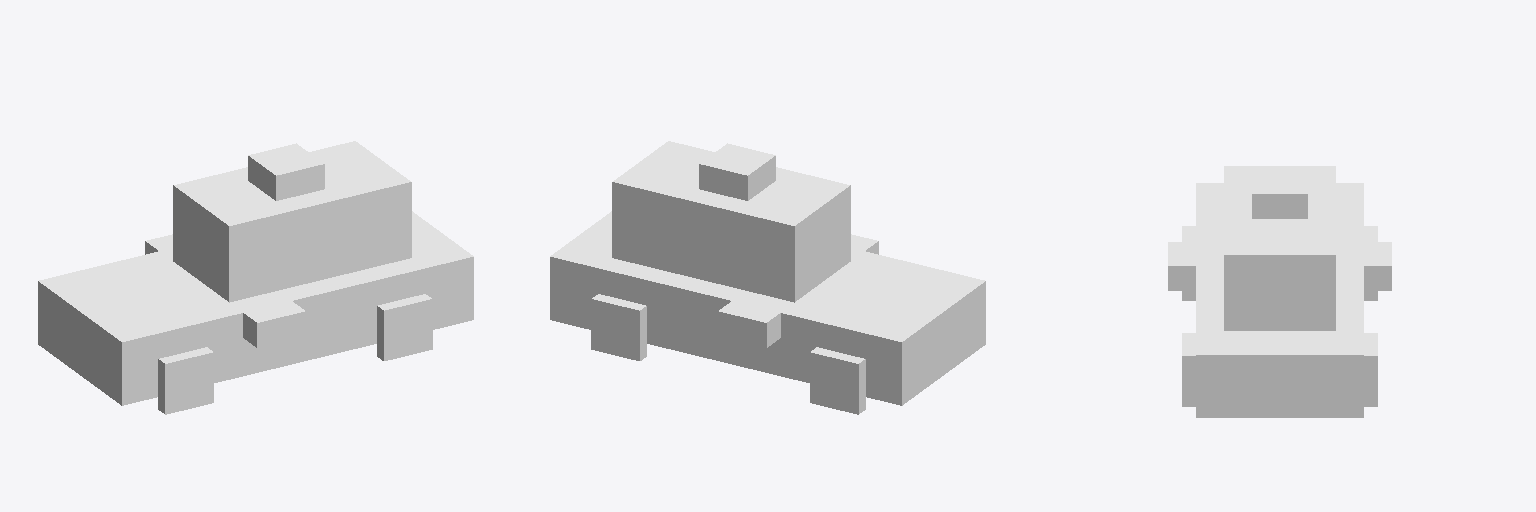
The model's file is xenganvang.obj.
3 views of the same model, side by side, from view 1: azimuth 30°, elevation 25°; view 2: azimuth 150°, elevation 25°; view 3: azimuth 270°, elevation 25° (orthographic).
Parts seen in each view (by area): view 1: object 1; view 2: object 1; view 3: object 1.
Part boxes in pixels (bbox=[...]): object 1: bbox=[38, 141, 473, 414]; object 1: bbox=[550, 141, 985, 414]; object 1: bbox=[1168, 166, 1391, 417].
Size of the model in its own units: 2.9 by 1.4 by 1.6.